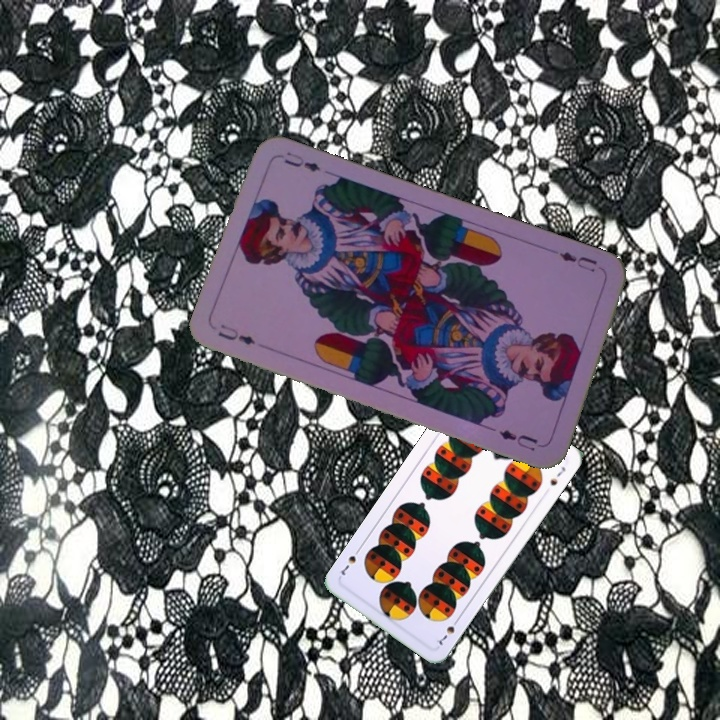EU: (555, 247, 600, 275), (213, 320, 258, 348)
S7: (432, 614, 462, 650)
